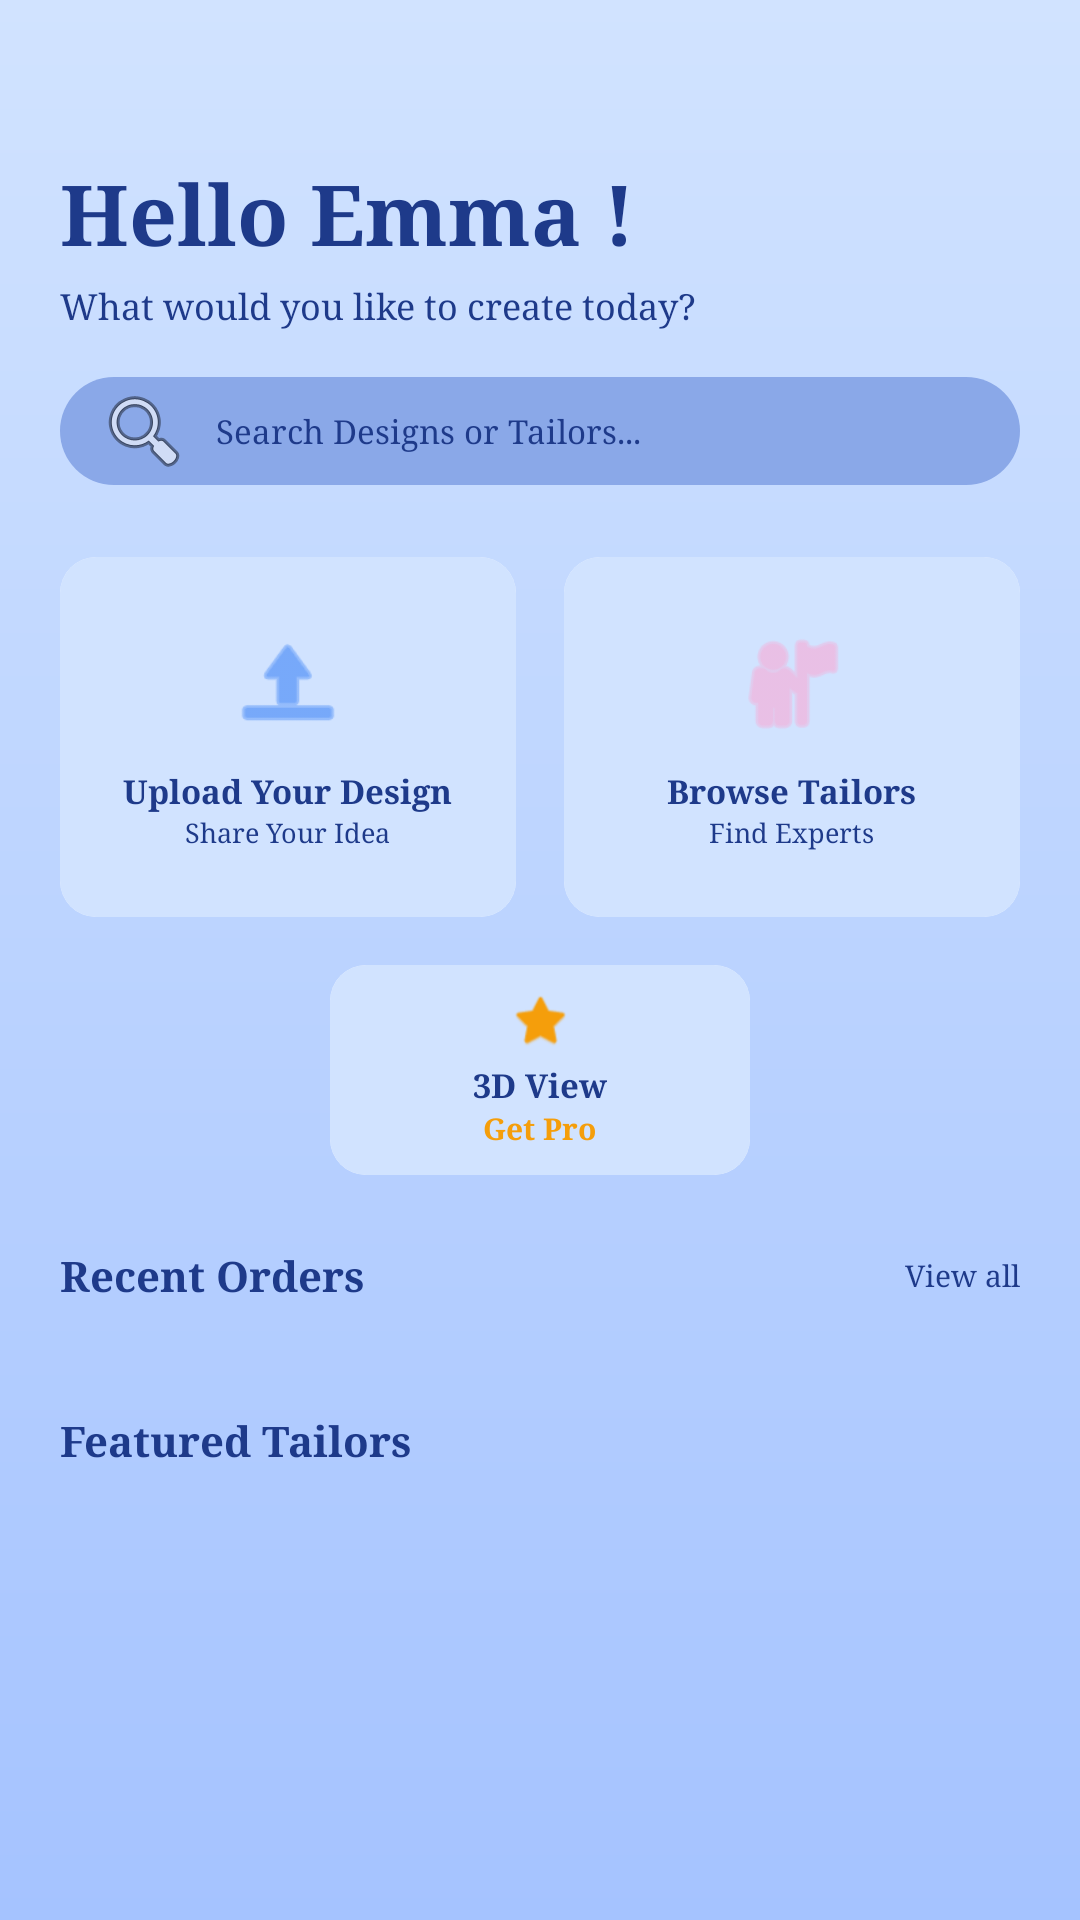

Icons on this 1080 × 1920 Android screen, each with the point to tap as [x,y]:
star on: [540,1020]
